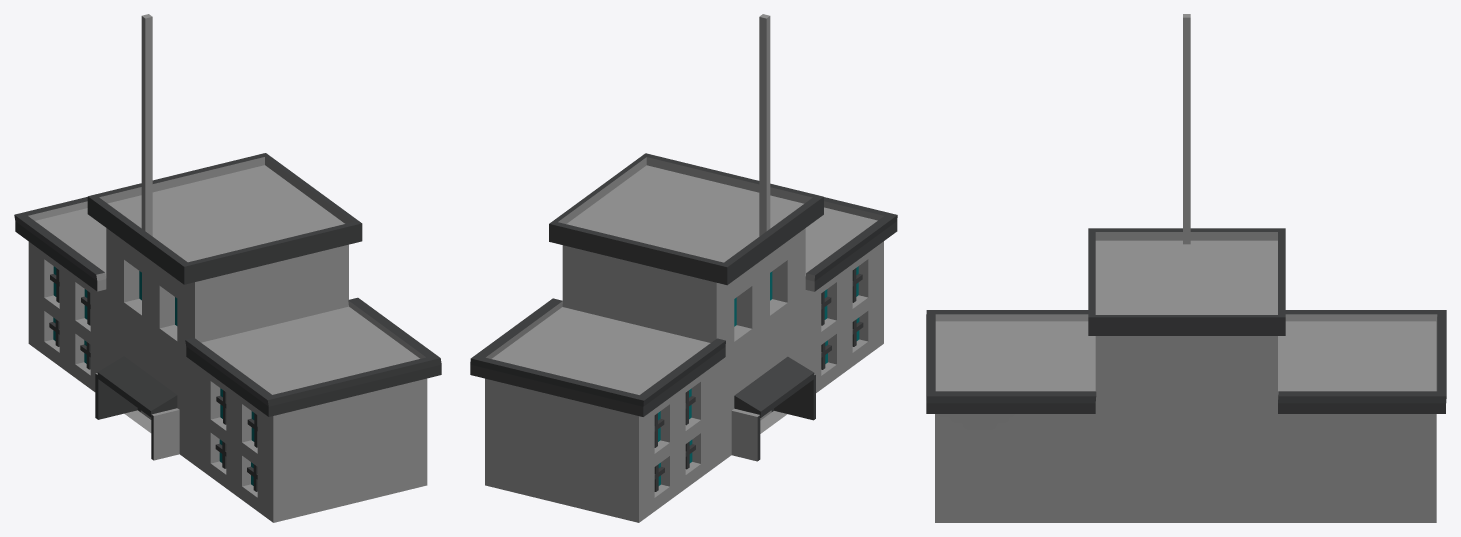
The model's file is house5.fbx.
The picture shows the model from 3 angles, left to right: view 1: azimuth 30°, elevation 25°; view 2: azimuth 150°, elevation 25°; view 3: azimuth 270°, elevation 25°; orthographic projection. The views are drawn at different scales.
Visible parts, largest first — view 1: Cube; view 2: Cube; view 3: Cube.
Boxes of the visible parts, <box> form: Cube: <box>14,14,441,522</box>; Cube: <box>470,14,897,522</box>; Cube: <box>926,14,1446,522</box>.
Size of the model in its own units: 3.58 by 7.5 by 8.25.
